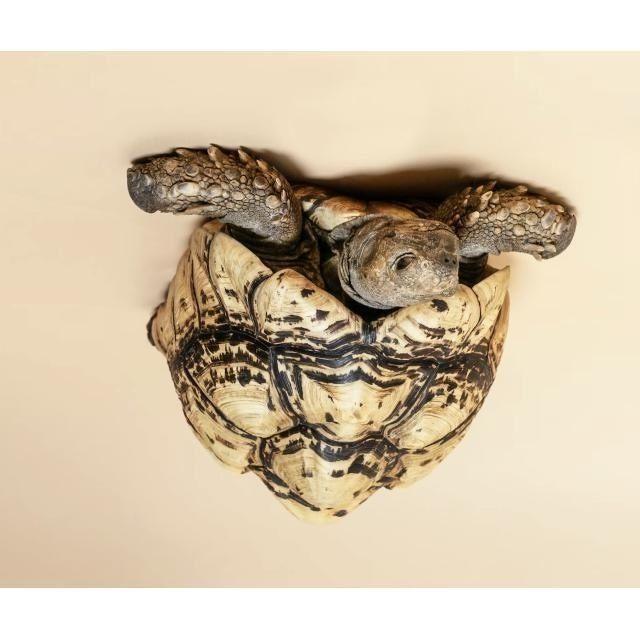turtle: (125, 142, 578, 524)
